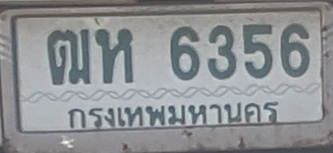txt13: (45, 28, 92, 86)
txt36: (93, 27, 137, 85)
